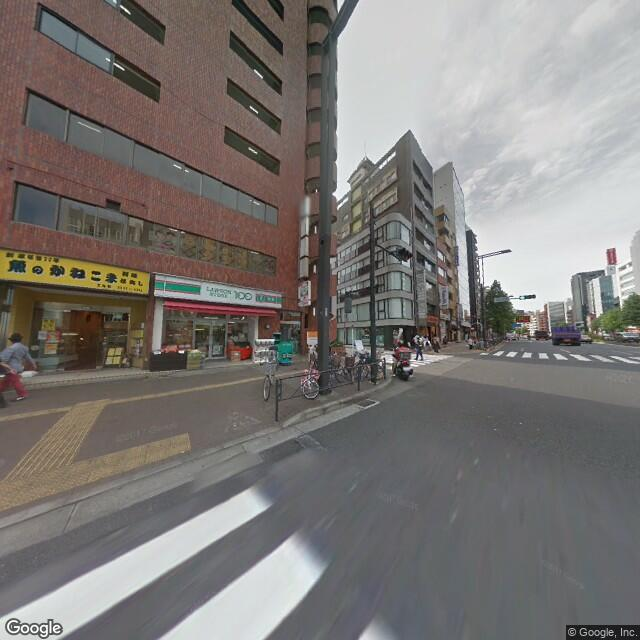lawson: (152, 271, 283, 312)
